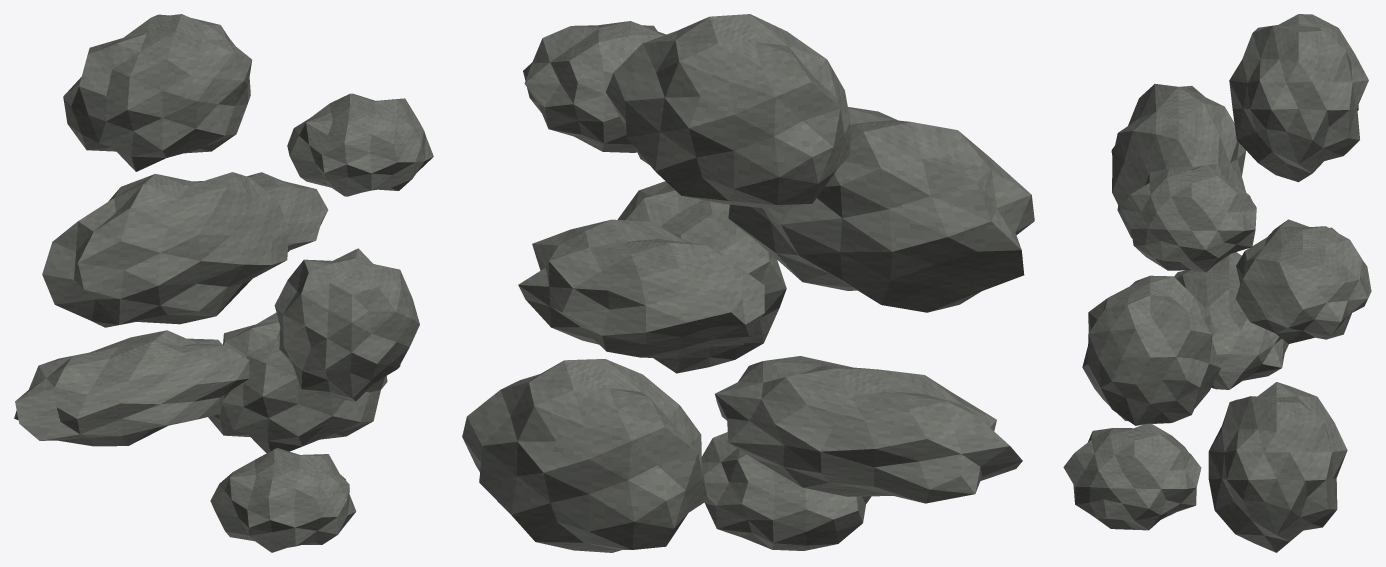
The picture shows the model from 3 angles, left to right: view 1: azimuth 30°, elevation 25°; view 2: azimuth 150°, elevation 25°; view 3: azimuth 270°, elevation 25°; orthographic projection. The views are drawn at different scales.
Parts seen in each view (by area): view 1: stone.5, stone.7, stone.2, stone.3, stone.1, stone.6, stone.0, stone.4; view 2: stone.5, stone.7, stone.1, stone.2, stone.4, stone.0, stone.6, stone.3; view 3: stone.1, stone.7, stone.3, stone.4, stone.6, stone.0, stone.5, stone.2.
Part boxes in pixels (<box>): stone.5: <box>42,172,288,327</box>; stone.7: <box>63,14,252,171</box>; stone.2: <box>14,330,249,446</box>; stone.3: <box>274,248,419,401</box>; stone.1: <box>208,312,387,453</box>; stone.6: <box>287,93,433,196</box>; stone.0: <box>210,448,356,552</box>; stone.4: <box>193,172,328,251</box>; stone.5: <box>728,107,1034,312</box>; stone.7: <box>606,14,850,208</box>; stone.1: <box>462,359,707,552</box>; stone.2: <box>715,356,1022,503</box>; stone.4: <box>518,219,764,358</box>; stone.0: <box>701,432,871,550</box>; stone.6: <box>523,21,665,152</box>; stone.3: <box>617,181,786,373</box>; stone.1: <box>1208,382,1347,552</box>; stone.7: <box>1229,14,1368,182</box>; stone.3: <box>1082,275,1220,425</box>; stone.4: <box>1235,219,1371,343</box>; stone.6: <box>1121,164,1256,272</box>; stone.0: <box>1063,424,1201,530</box>; stone.5: <box>1111,84,1246,237</box>; stone.2: <box>1174,252,1288,389</box>.
Bounding box in the file's own units: 1.64 × 1.84 × 1.08.
Materials: 1 (1 with a texture image).
